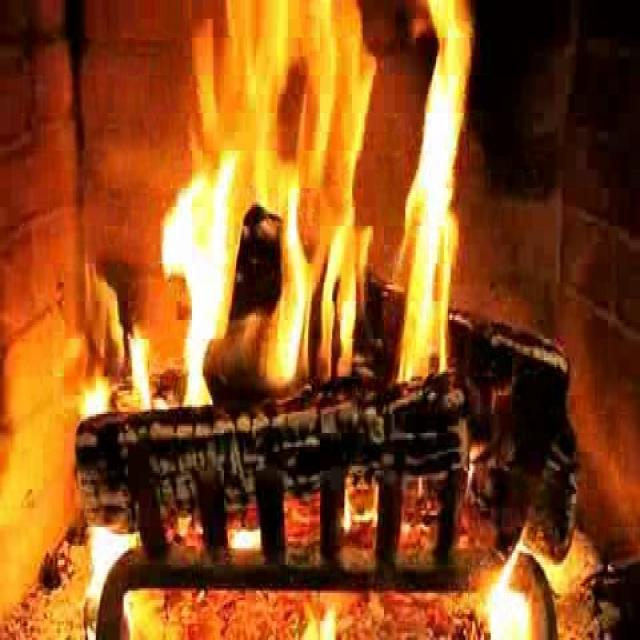Fire: (144, 1, 468, 444)
